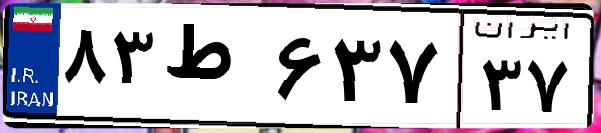3: (330, 28, 385, 110), (475, 38, 525, 113), (110, 28, 158, 98)
6: (270, 28, 330, 110)
7: (385, 28, 445, 110), (525, 38, 570, 115)
8: (57, 26, 110, 100)
ط: (158, 20, 270, 120)
